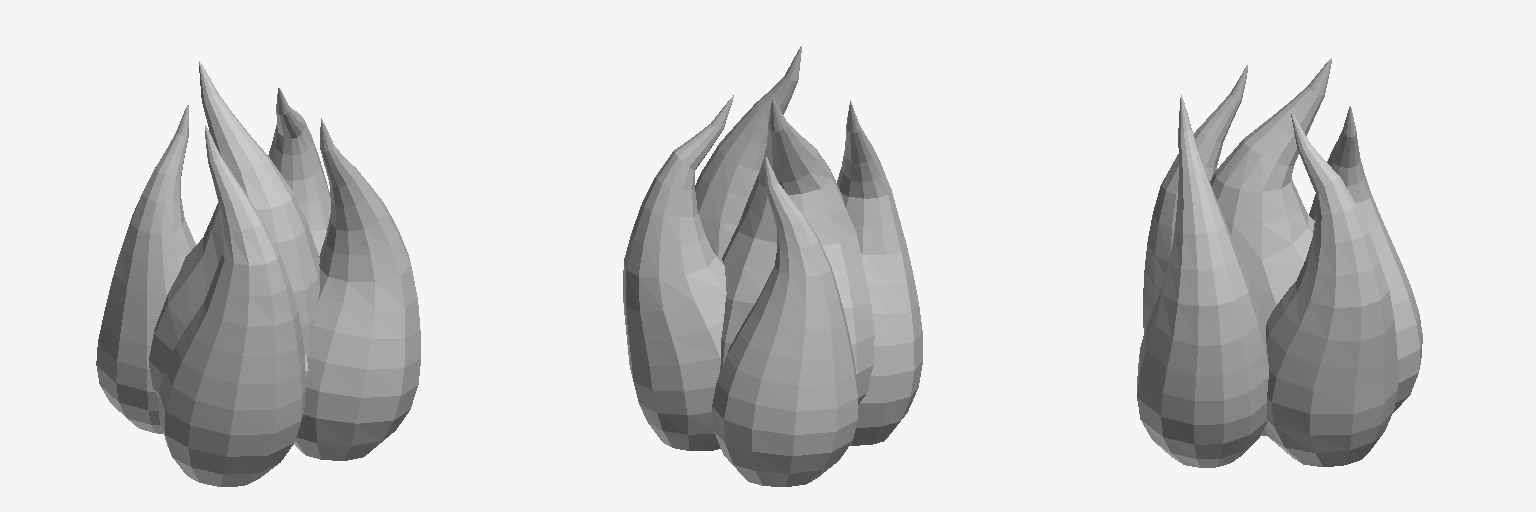
The model's file is fire_000051.obj.
The picture shows the model from 3 angles: view 1: azimuth 30°, elevation 25°; view 2: azimuth 150°, elevation 25°; view 3: azimuth 270°, elevation 25°; orthographic projection.
Parts seen in each view (by area): view 1: flame_NurbsPath.015; view 2: flame_NurbsPath.015; view 3: flame_NurbsPath.015.
Boxes of the visible parts, x1=… form: flame_NurbsPath.015: x1=96, y1=61, x2=420, y2=486; flame_NurbsPath.015: x1=623, y1=46, x2=922, y2=486; flame_NurbsPath.015: x1=1137, y1=58, x2=1422, y2=467.
Bounding box in the file's own units: 0.7669 × 1.14 × 0.8014.